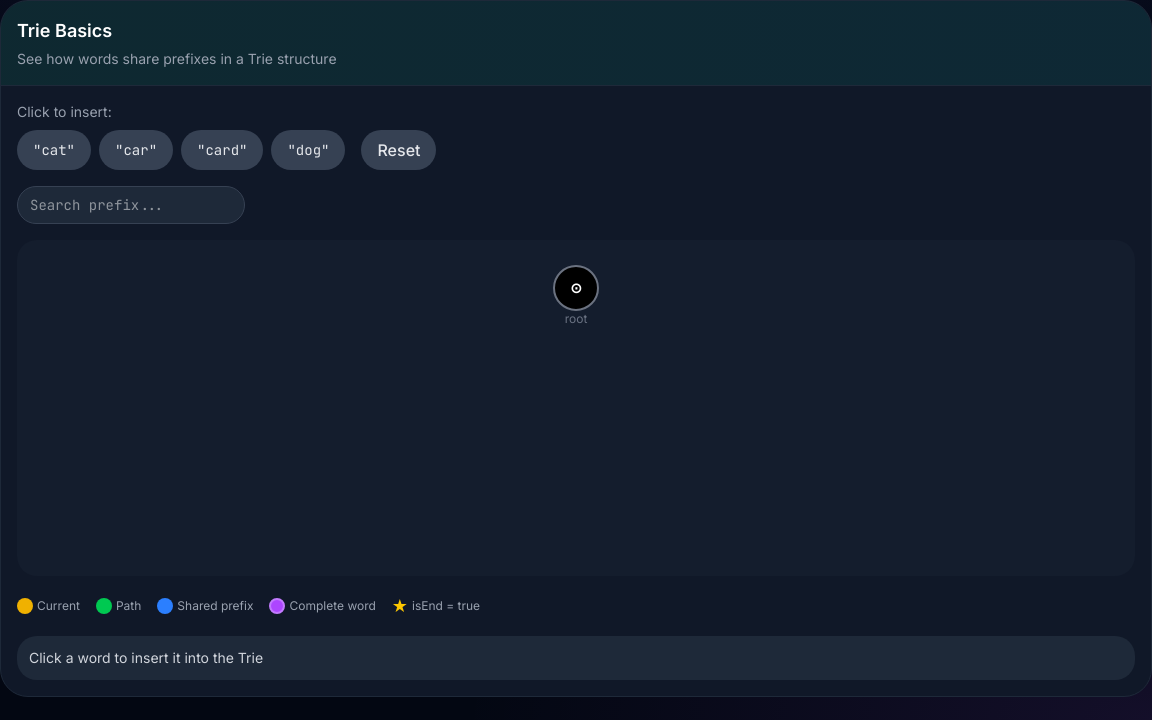
Test case: Trie Visualizers › TrieBasicsVisualizer › handles reset button click
Insert a word first
Click the button "\"cat\"". click: (54, 150)
box: [17, 130, 91, 170]
Wait 3000 ms
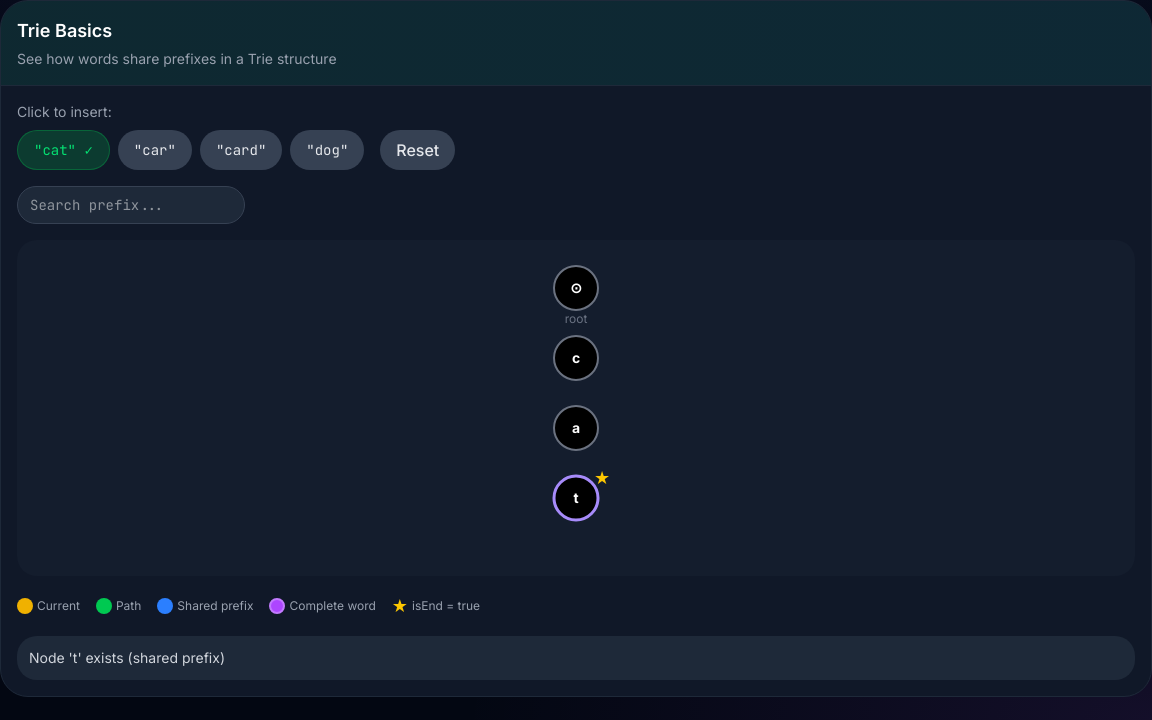
Click reset
Click the button "Reset". click: (418, 150)
box: [380, 130, 455, 170]
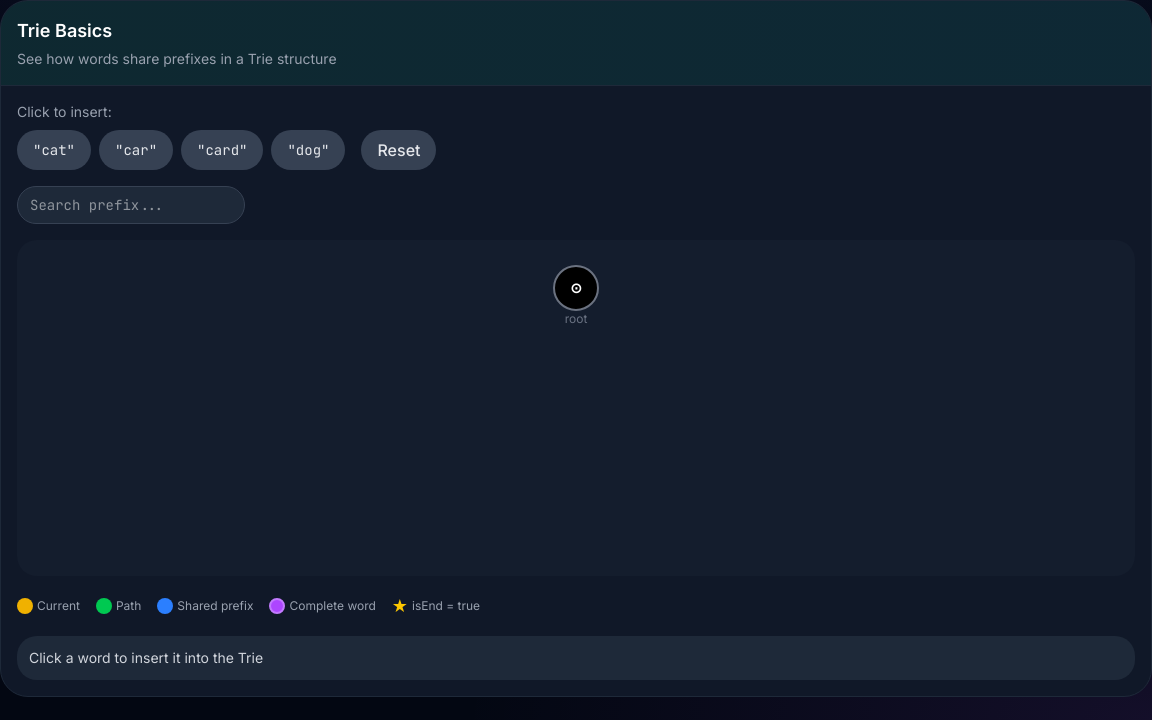
Result: the text "Click a word to insert it into the Trie" is shown at [17, 636, 1135, 680]
